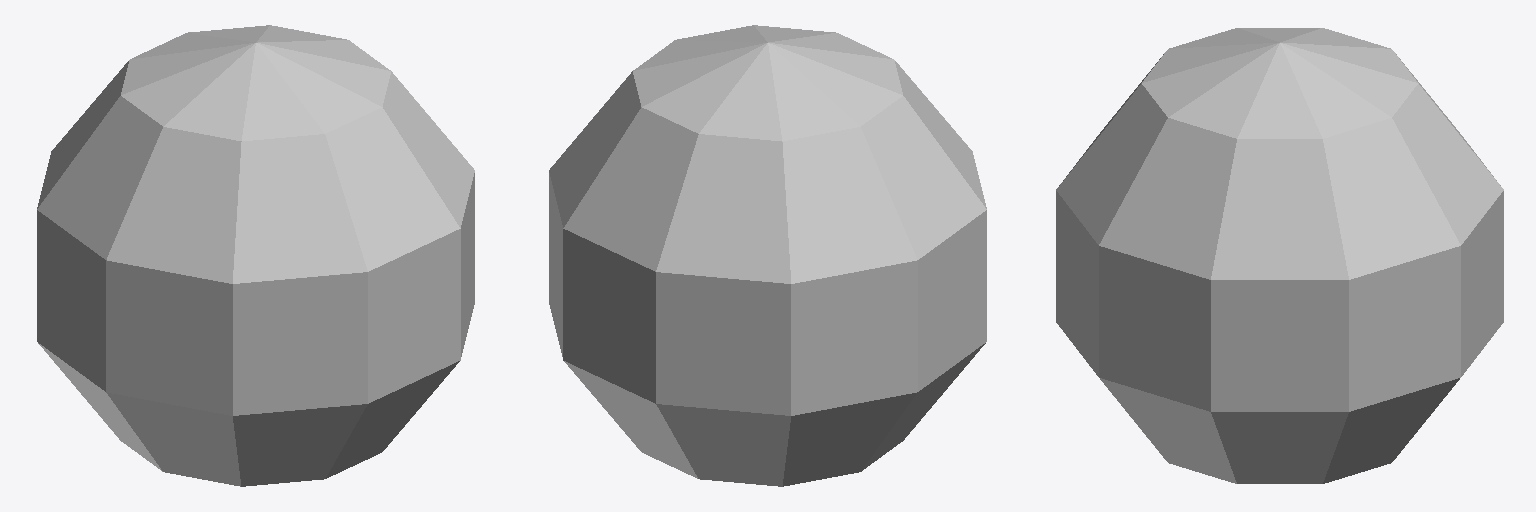
The model's file is HitBall.obj.
3 renders of one model, left to right at view 1: azimuth 30°, elevation 25°; view 2: azimuth 150°, elevation 25°; view 3: azimuth 270°, elevation 25°, orthographic.
Parts seen in each view (by area): view 1: Sphere; view 2: Sphere; view 3: Sphere.
Part boxes in pixels (bbox=[...]): Sphere: bbox=[37, 25, 474, 486]; Sphere: bbox=[549, 25, 986, 486]; Sphere: bbox=[1056, 28, 1503, 483].
Bounding box in the file's own units: 1.81 × 2 × 1.9.